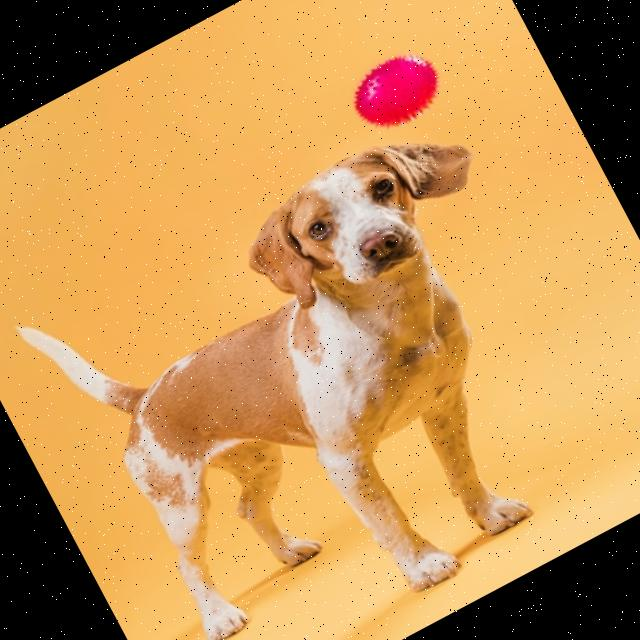Dog: (9, 97, 640, 640)
